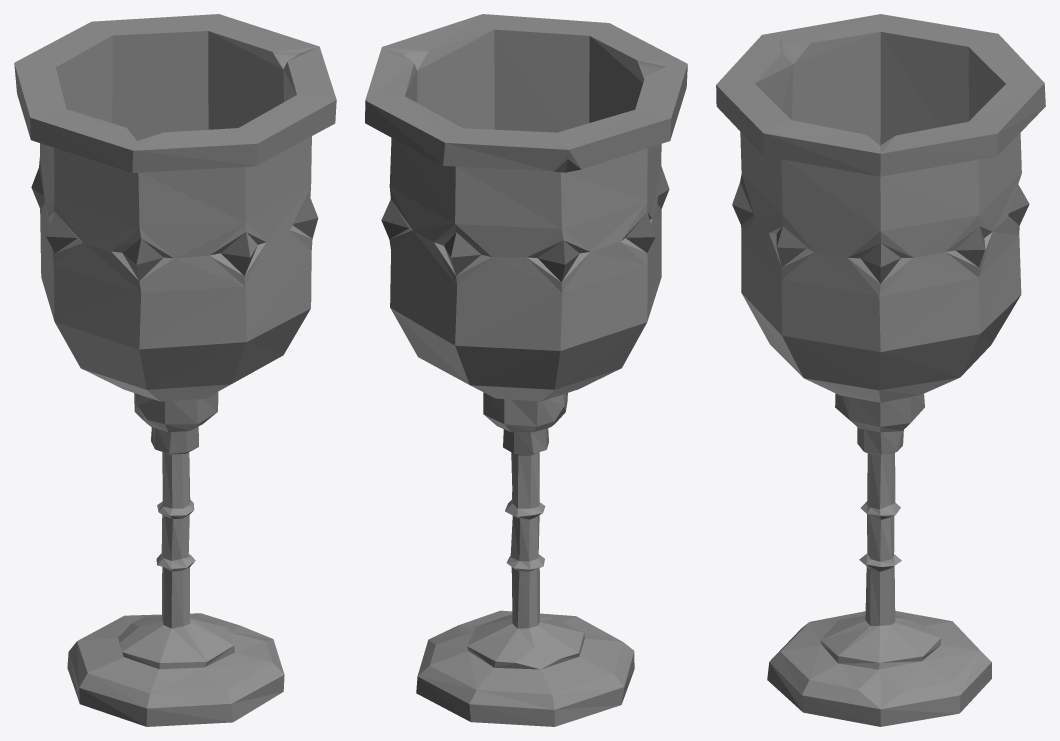
The model's file is SFI_Cup_006 - Copy.fbx.
The picture shows the model from 3 angles, left to right: view 1: azimuth 30°, elevation 25°; view 2: azimuth 150°, elevation 25°; view 3: azimuth 270°, elevation 25°; orthographic projection.
Visible parts, largest first — view 1: SFI_Cylinder.001; view 2: SFI_Cylinder.001; view 3: SFI_Cylinder.001.
Part boxes in pixels (box(x1,y1,x2,y2)): SFI_Cylinder.001: box(14, 14, 336, 726); SFI_Cylinder.001: box(365, 14, 687, 726); SFI_Cylinder.001: box(716, 14, 1045, 726).
Size of the model in its own units: 14.11 by 27.98 by 14.01.
